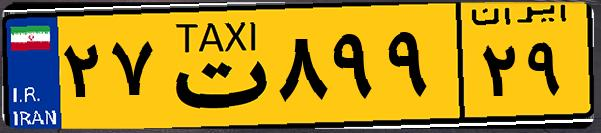2: (57, 26, 110, 100), (475, 38, 525, 113)
7: (110, 28, 158, 98)
8: (270, 28, 330, 110)
9: (385, 28, 445, 110), (330, 28, 385, 110), (525, 38, 570, 115)
ت: (158, 12, 270, 120)
